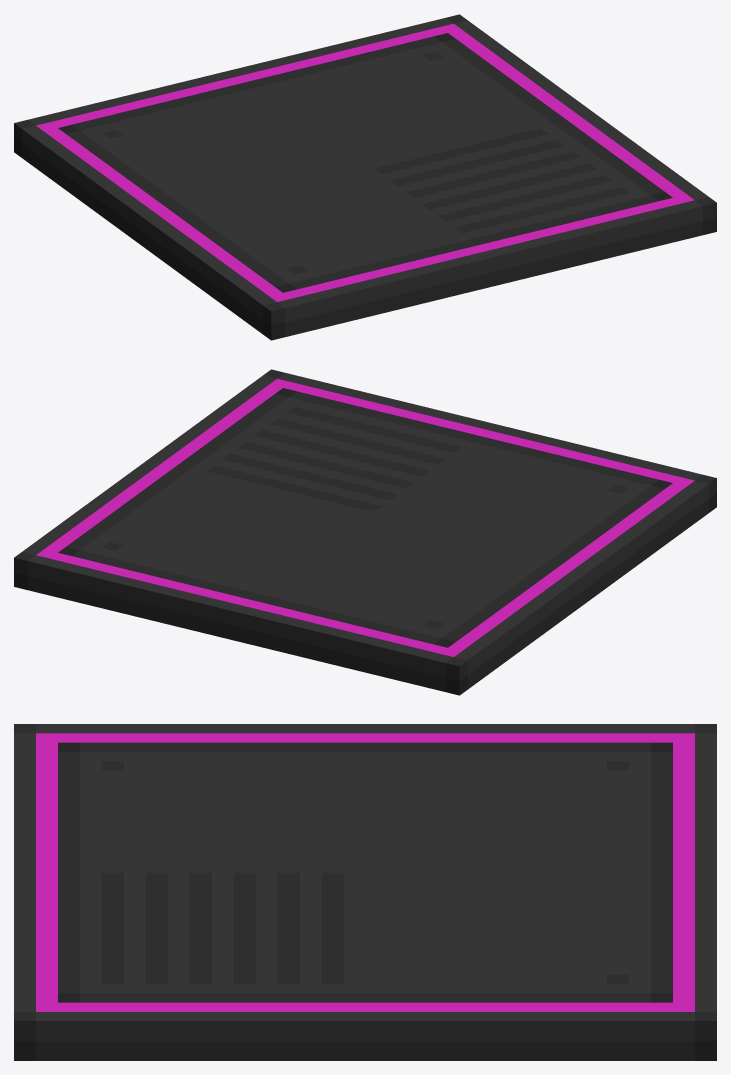
File: tileneon.obj
3 views of the same model, one above another, from view 1: azimuth 30°, elevation 25°; view 2: azimuth 150°, elevation 25°; view 3: azimuth 270°, elevation 25° (orthographic). The views are drawn at different scales.
Visible parts, largest first — view 1: tileneon; view 2: tileneon; view 3: tileneon.
Part boxes in pixels (box(x1,y1,x2,y2)): tileneon: box(14, 14, 716, 340); tileneon: box(14, 369, 716, 695); tileneon: box(14, 724, 716, 1060).
Bounding box in the file's own units: 32 × 2 × 32.
1 material, 1 textured.
